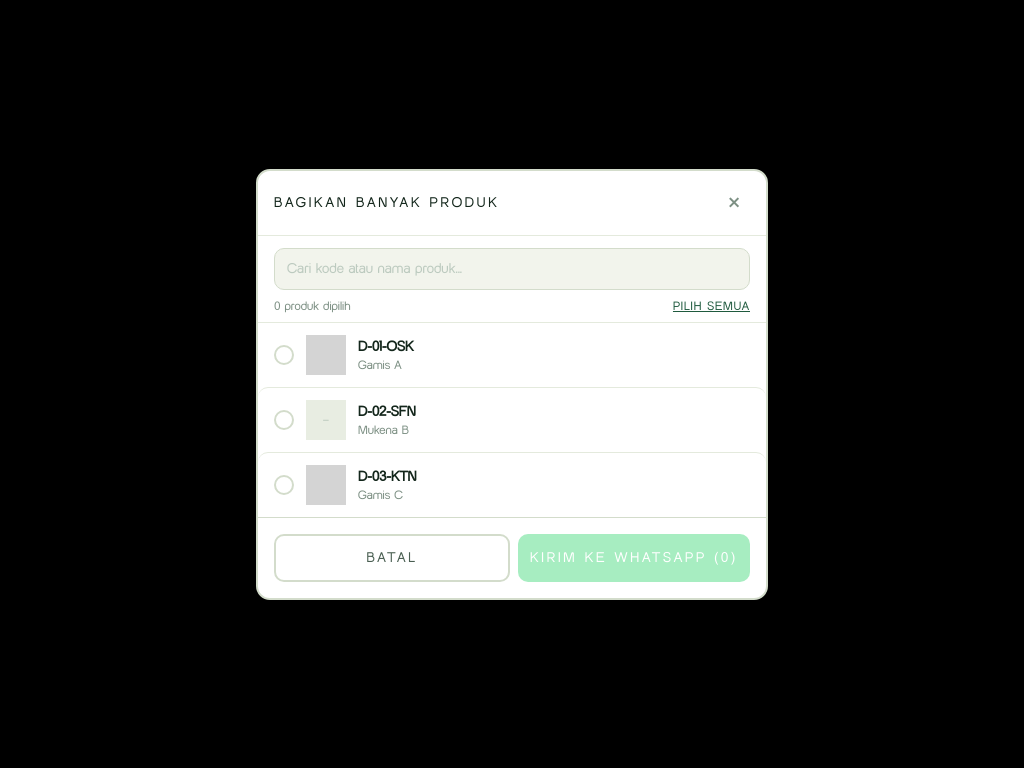
Test: BulkShareModal › tombol 'Pilih Semua' berubah jadi 'Batal Pilih Semua' saat semua yang tampil sudah terpilih
Click the button "Pilih Semua". click: (712, 306)
box: [673,298,750,314]
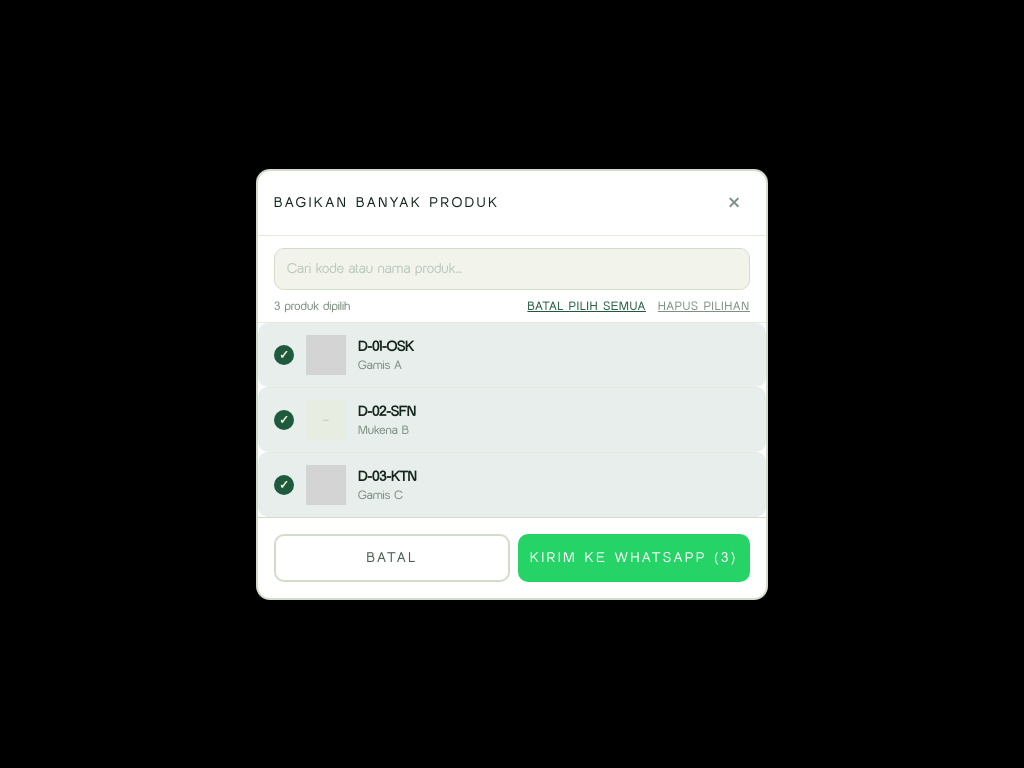
Check: the button "Batal Pilih Semua" is shown, box [527,298,646,314]
